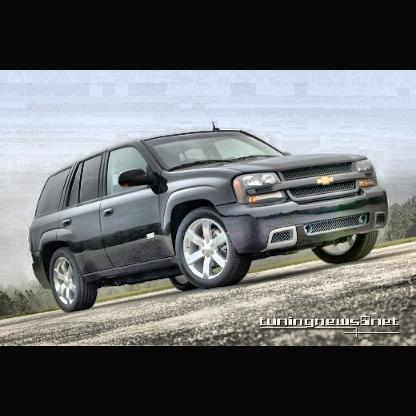Chevrolet TrailBlazer SS 2009: (29, 123, 390, 316)
